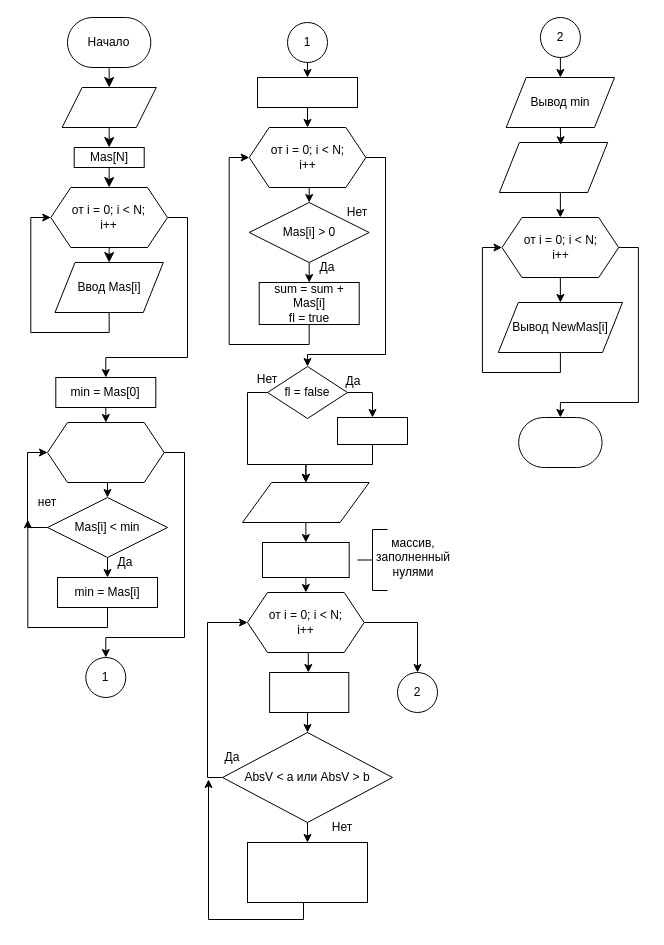
This 664x945 diagram has some shape labels left out. The centre of each missing label's shape, as x and y in pixels:
"AbsV = Abs(Mas[i])" belongs at point (309, 692).
"NewMas[index] = Mas[i] index ++" belongs at point (307, 872).
"NewMas[N] index = 0" belongs at point (305, 560).
"sum = 0" belongs at point (372, 430).
"sum = 0 fl = false" belongs at point (307, 92).
"Ввод A и B" belongs at point (305, 502).
"Ввод N" belongs at point (108, 107).
"Вывод sum" belongs at point (553, 167).
"Конец" belongs at point (560, 442).
"от i = 1; i < N; i++" belongs at point (105, 452).
